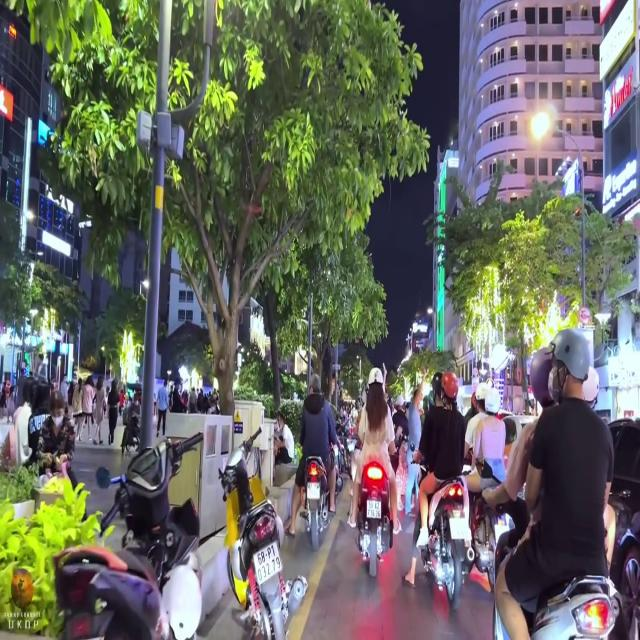bien_trang: (253, 544, 284, 583), (366, 498, 382, 522)
